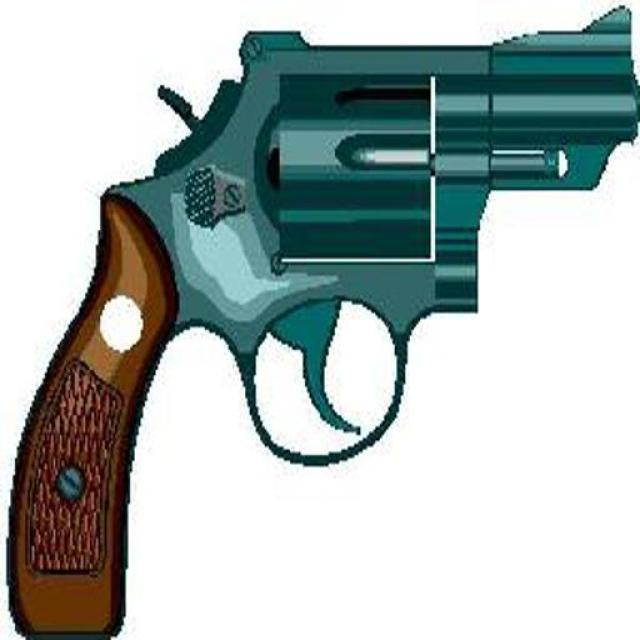pistol: (7, 2, 635, 636)
